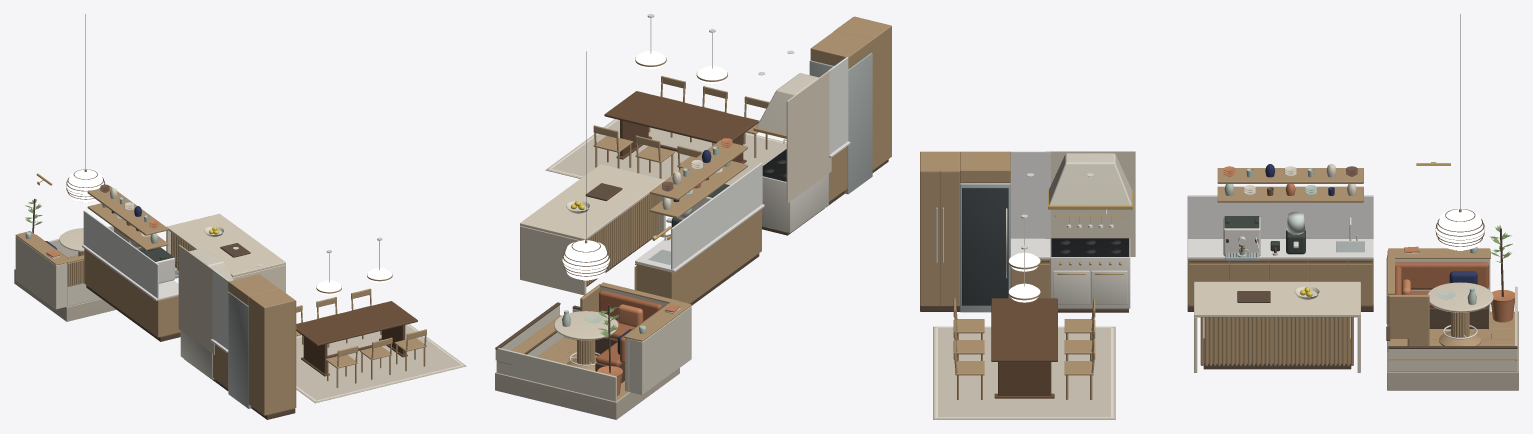
File: room-kitchen.glb
3 views of the same model, side by side, from view 1: azimuth 30°, elevation 25°; view 2: azimuth 150°, elevation 25°; view 3: azimuth 270°, elevation 25° (orthographic). The views are drawn at different scales.
Parts seen in each view (by area): view 1: kitchen__pale oak, kitchen__honed travertine, kitchen__oatmeal wool textile, kitchen__milky veined marble, kitchen_placeholder_dining-table, kitchen__chalk limestone, kitchen_placeholder_kitchen-glass-fridge, kitchen__dining lantern paper, kitchen__honey ash, kitchen__warm cut stone, kitchen_placeholder_kitchen-range, kitchen_placeholder_dining-chair-1 (+5 smaller); view 2: kitchen__pale oak, kitchen__honed travertine, kitchen__chalk limestone, kitchen__milky veined marble, kitchen_placeholder_dining-table, kitchen__oatmeal wool textile, kitchen_placeholder_kitchen-glass-fridge, kitchen_placeholder_kitchen-range, kitchen__warm cut stone, kitchen__dining lantern paper, kitchen__honey ash, kitchen__rust boucle textile (+7 smaller); view 3: kitchen__pale oak, kitchen__milky veined marble, kitchen__honed travertine, kitchen__oatmeal wool textile, kitchen_placeholder_kitchen-glass-fridge, kitchen_placeholder_dining-table, kitchen_placeholder_kitchen-range, kitchen_placeholder_kitchen-range-hood, kitchen__honey ash, kitchen__chalk limestone, kitchen__warm cut stone, kitchen__dining lantern paper (+9 smaller).
Boxes of the visible parts, x1,y1,x2,y2 form: kitchen__pale oak: (15, 186, 392, 415); kitchen__honed travertine: (59, 213, 285, 354); kitchen__oatmeal wool textile: (296, 324, 466, 403); kitchen__milky veined marble: (82, 210, 229, 352); kitchen_placeholder_dining-table: (296, 301, 417, 376); kitchen__chalk limestone: (15, 226, 129, 309); kitchen_placeholder_kitchen-glass-fridge: (228, 292, 251, 408); kitchen__dining lantern paper: (66, 169, 392, 295); kitchen__honey ash: (32, 169, 295, 419); kitchen__warm cut stone: (14, 269, 116, 321); kitchen_placeholder_kitchen-range: (180, 331, 215, 381); kitchen_placeholder_dining-chair-1: (325, 346, 358, 387); kitchen__pale oak: (497, 16, 891, 400); kitchen__honed travertine: (520, 69, 831, 340); kitchen__chalk limestone: (495, 287, 691, 401); kitchen__milky veined marble: (635, 57, 850, 272); kitchen_placeholder_dining-table: (604, 91, 758, 163); kitchen__oatmeal wool textile: (545, 119, 786, 184); kitchen_placeholder_kitchen-glass-fridge: (809, 52, 872, 194); kitchen_placeholder_kitchen-range: (762, 149, 828, 235); kitchen__warm cut stone: (495, 368, 679, 419); kitchen__dining lantern paper: (562, 51, 727, 280); kitchen__honey ash: (495, 159, 888, 383); kitchen__rust boucle textile: (596, 290, 666, 367); kitchen__pale oak: (920, 151, 1517, 365); kitchen__milky veined marble: (1010, 151, 1373, 259); kitchen__honed travertine: (1045, 151, 1493, 372); kitchen__oatmeal wool textile: (933, 326, 1115, 419); kitchen_placeholder_kitchen-glass-fridge: (960, 183, 1010, 312); kitchen_placeholder_dining-table: (991, 298, 1057, 398); kitchen_placeholder_kitchen-range: (1050, 238, 1130, 312); kitchen_placeholder_kitchen-range-hood: (1048, 153, 1132, 209); kitchen__honey ash: (920, 209, 1517, 369); kitchen__chalk limestone: (1387, 259, 1517, 371); kitchen__warm cut stone: (1387, 311, 1518, 390); kitchen__dining lantern paper: (1009, 209, 1484, 302).
Size of the model in its own units: 4.99 by 5.72 by 9.
